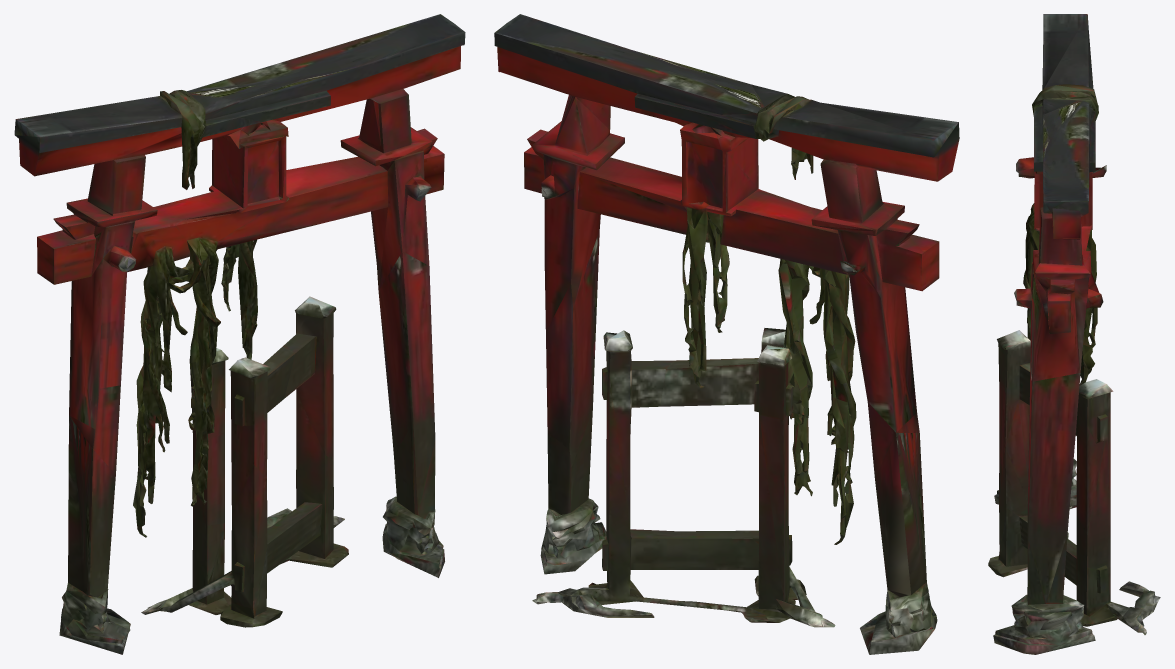
File: torii-gate.glb
3 renders of one model, left to right at view 1: azimuth 30°, elevation 25°; view 2: azimuth 150°, elevation 25°; view 3: azimuth 270°, elevation 25°, orthographic. The views are drawn at different scales.
Bounding box in the file's own units: 1.65 × 1.9 × 0.6354.
Materials: 1 (1 with a texture image).
